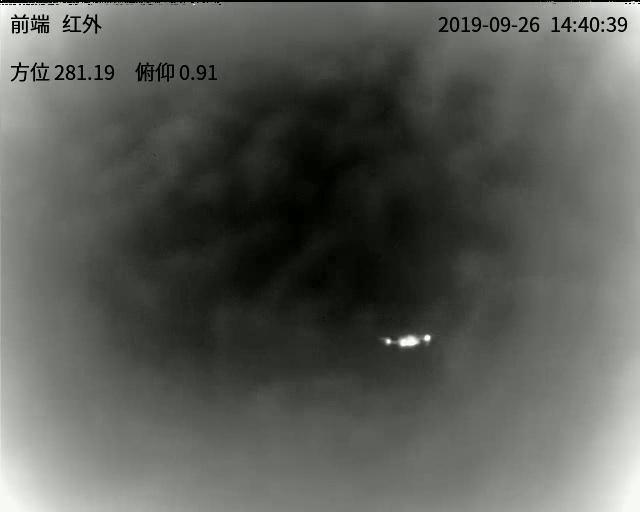DRONE: (382, 333, 434, 350)
